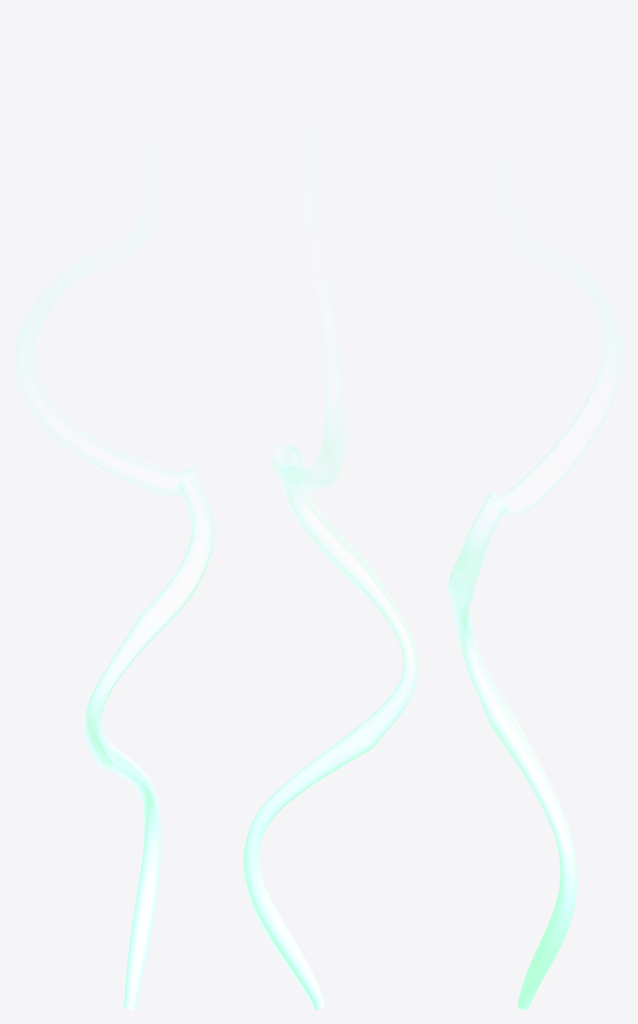
Rendered from strand_a_supply.glb.
The picture shows the model from 3 angles, left to right: view 1: azimuth 30°, elevation 25°; view 2: azimuth 150°, elevation 25°; view 3: azimuth 270°, elevation 25°; orthographic projection.
Size of the model in its own units: 1.23 by 9.02 by 1.45.
